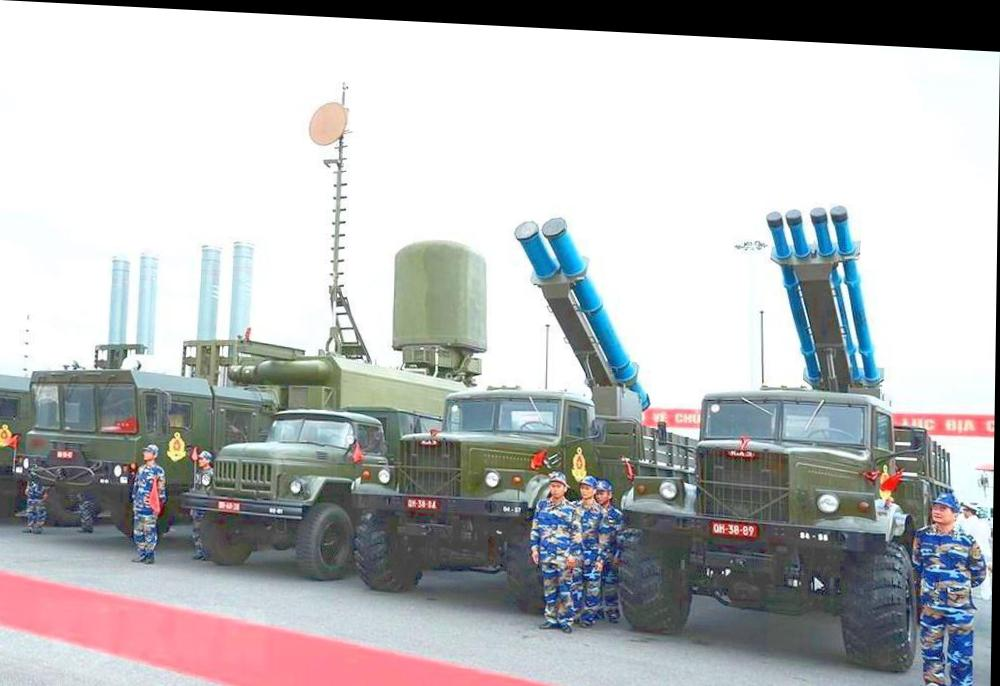License_Plate: (710, 520, 761, 540), (402, 492, 445, 514), (54, 444, 77, 463), (216, 497, 243, 513)
